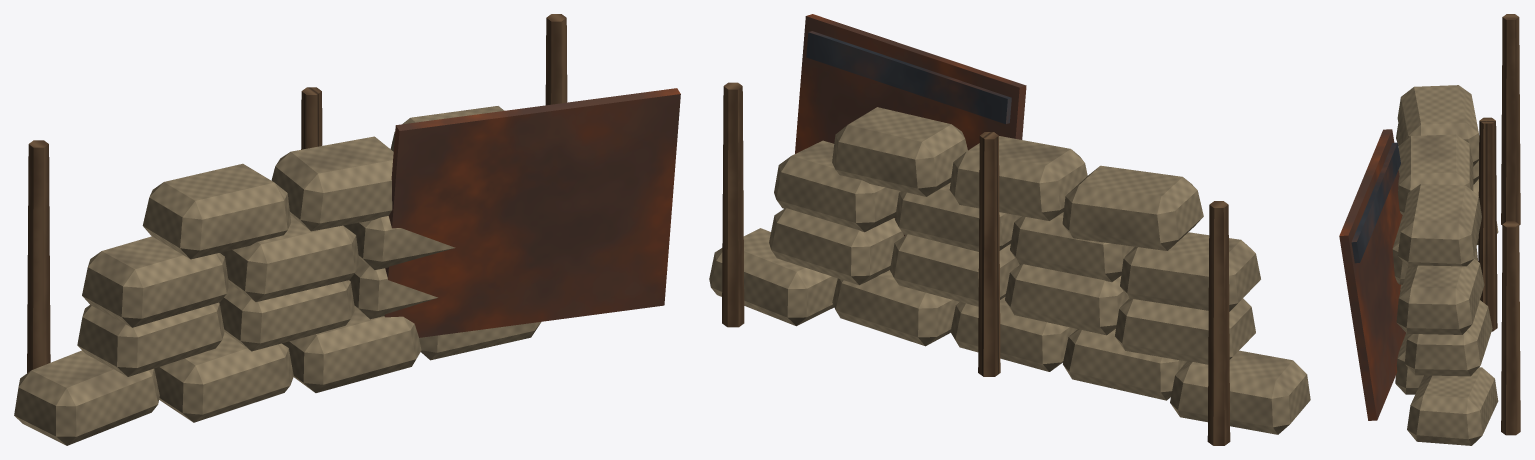
File: env_sandbag_barricade.glb
3 renders of one model, left to right at view 1: azimuth 30°, elevation 25°; view 2: azimuth 150°, elevation 25°; view 3: azimuth 270°, elevation 25°, orthographic. The views are drawn at different scales.
Visible parts, largest first — view 1: Env_sandbag_barricade; view 2: Env_sandbag_barricade; view 3: Env_sandbag_barricade.
Part boxes in pixels (x1,y1,x2,y2): Env_sandbag_barricade: (14,14,680,445); Env_sandbag_barricade: (709,14,1310,445); Env_sandbag_barricade: (1339,14,1520,445).
Bounding box in the file's own units: 2.51 × 0.9944 × 0.7766.
Materials: 4 (4 with a texture image).
